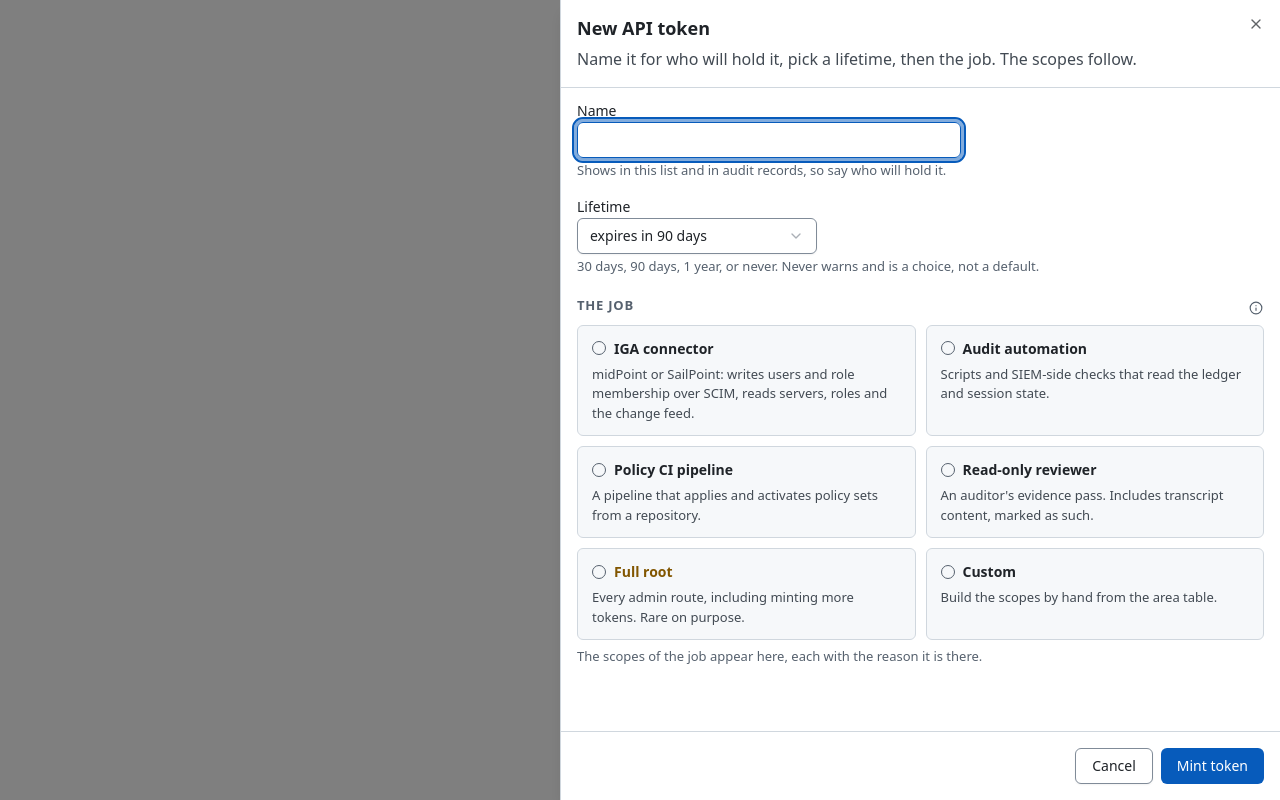
Test: the mint sheet › says the grants are missing when a name is typed and no job is picked
Type "sailpoint" into the field labelled "Name" at coordinates (769, 140), box [577,122,961,158]
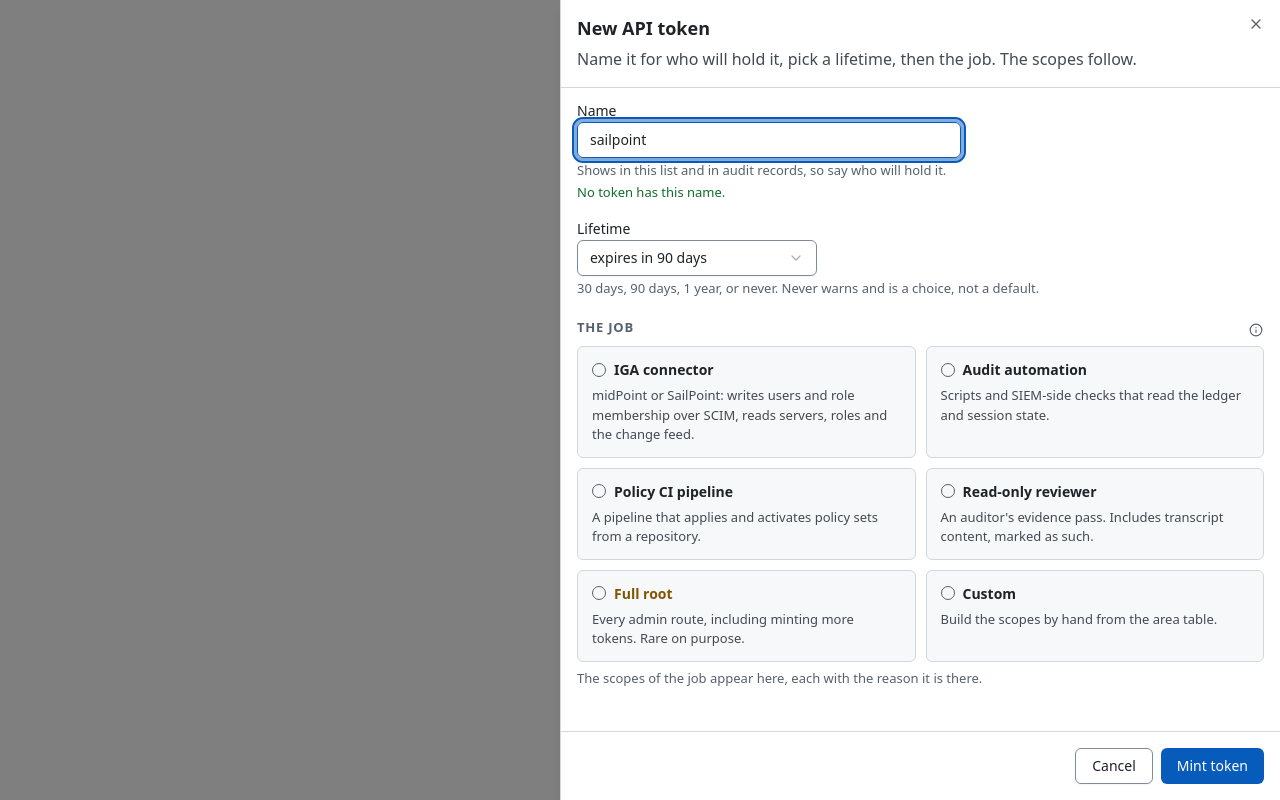
Click the button "Mint token" at coordinates (1212, 766), box [1161,748,1264,784]
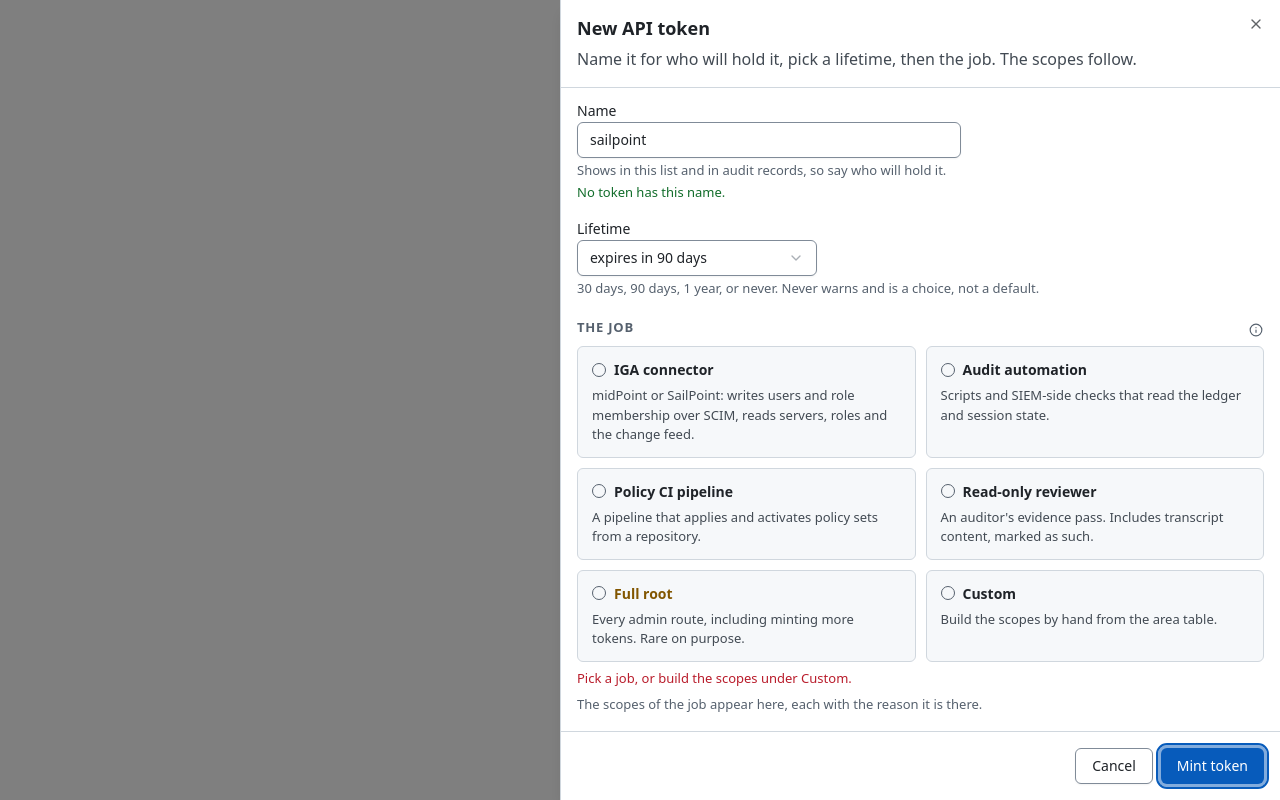
Now the text "Pick a job, or build the scopes under Custom." is shown, box [577,669,852,687]
